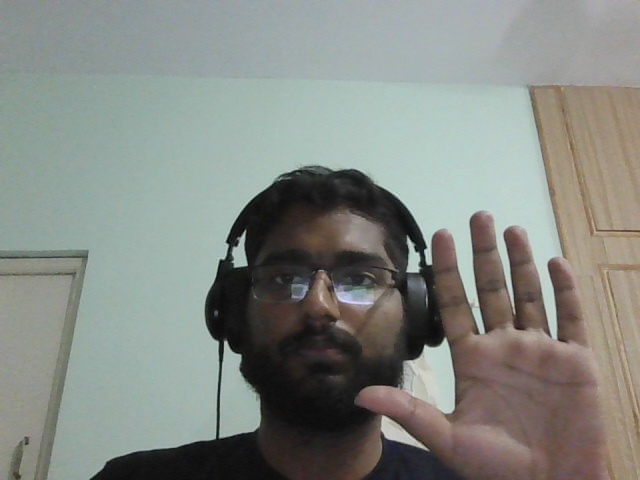Hello: (353, 210, 627, 473)
